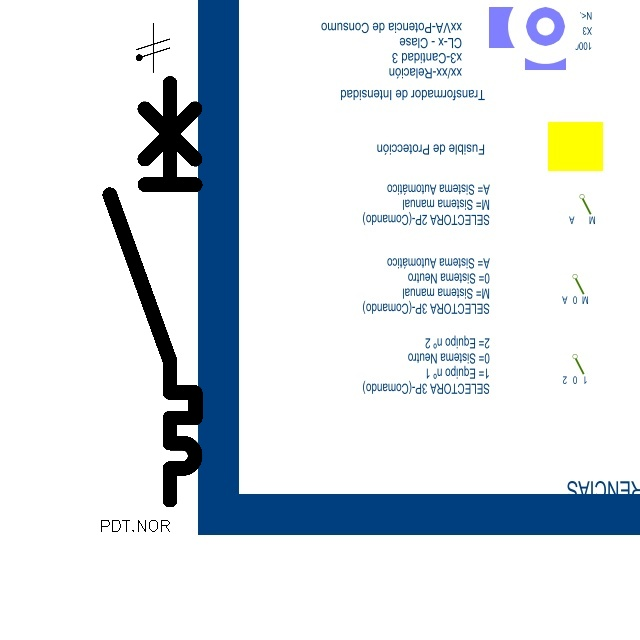interruptor_termomagnetico: (99, 72, 206, 510)
